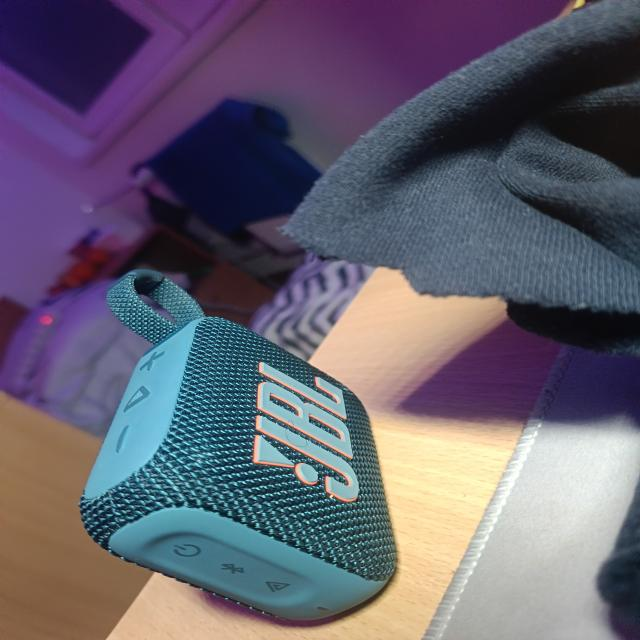column JBL: (80, 264, 402, 626)
